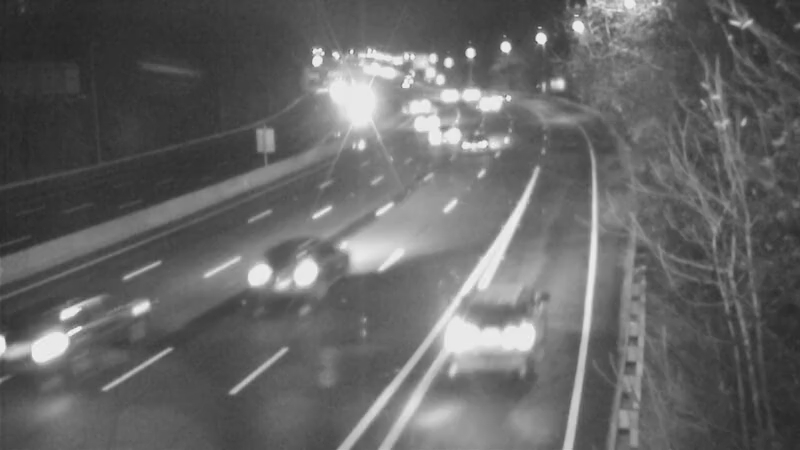vehicle: (417, 294, 527, 404), (1, 296, 98, 406), (250, 232, 330, 312), (420, 69, 470, 119), (466, 76, 516, 126), (389, 81, 439, 131), (398, 98, 448, 148), (421, 113, 471, 163), (452, 118, 502, 168)
